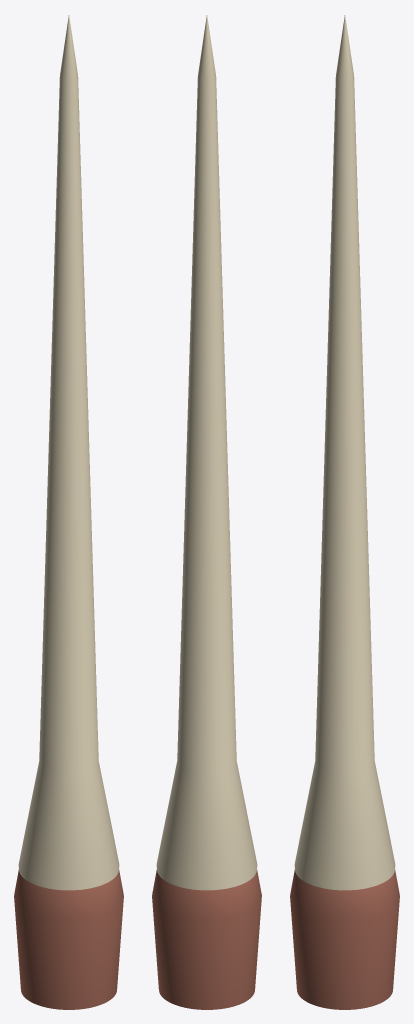
The model's file is acc_baton.glb.
3 views of the same model, side by side, from view 1: azimuth 90°, elevation 25°; view 2: azimuth 150°, elevation 25°; view 3: azimuth 270°, elevation 25° (orthographic).
Parts seen in each view (by area): view 1: conductor-baton; view 2: conductor-baton; view 3: conductor-baton.
Boxes of the visible parts, bbox=[...] form: conductor-baton: bbox=[14, 15, 123, 1009]; conductor-baton: bbox=[152, 15, 261, 1009]; conductor-baton: bbox=[290, 15, 399, 1009].
Size of the model in its own units: 0.048 by 0.47 by 0.048.
